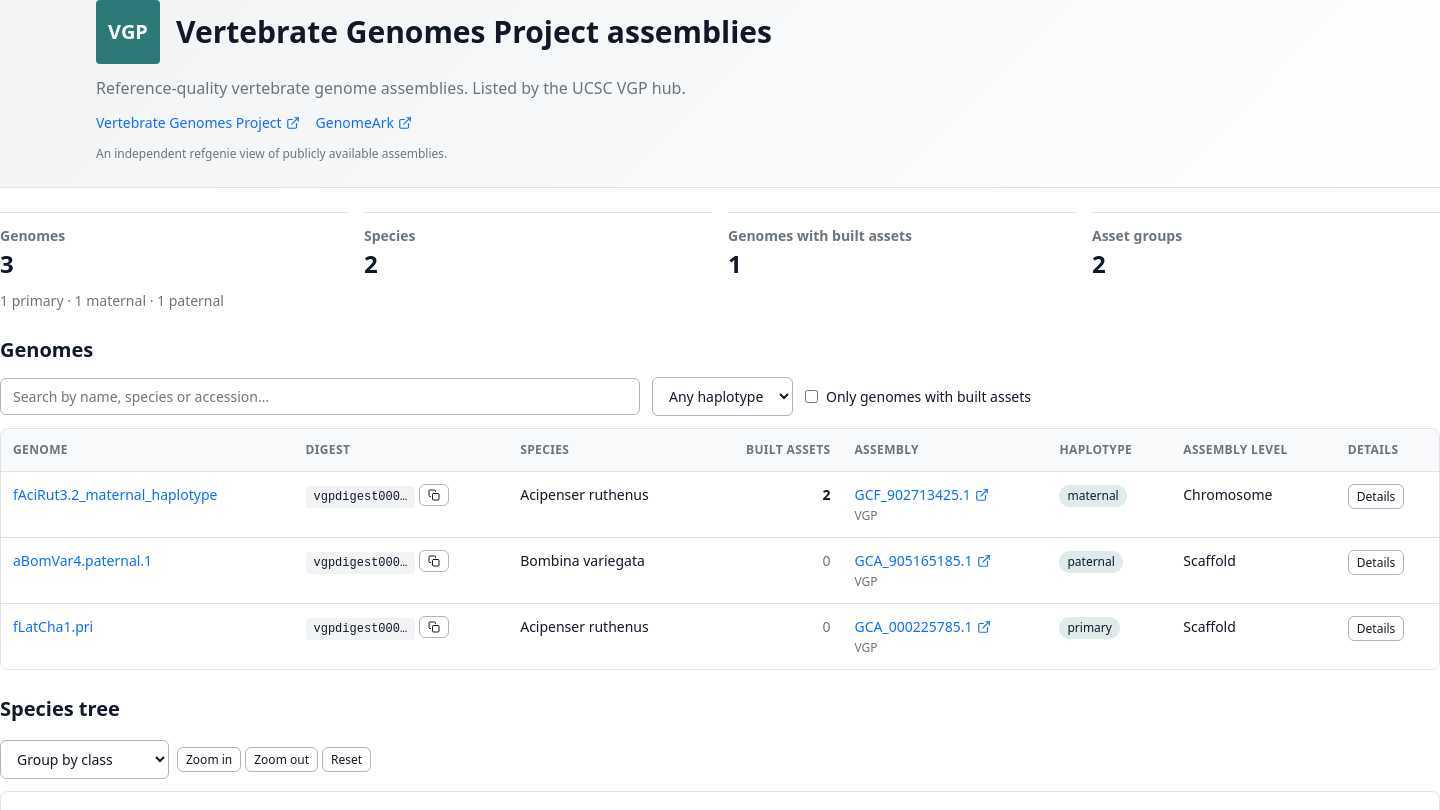
Test case: CollectionPage › opens a detail panel that says when no quality metrics exist
The image size is (1440, 810).
Expected: the link "fLatCha1.pri" is shown, [13,617,93,636]
Step 1. Click the button with aria-label "Details for fAciRut3.2_maternal_haplotype" → (1376, 496), box [1348,484,1404,509]
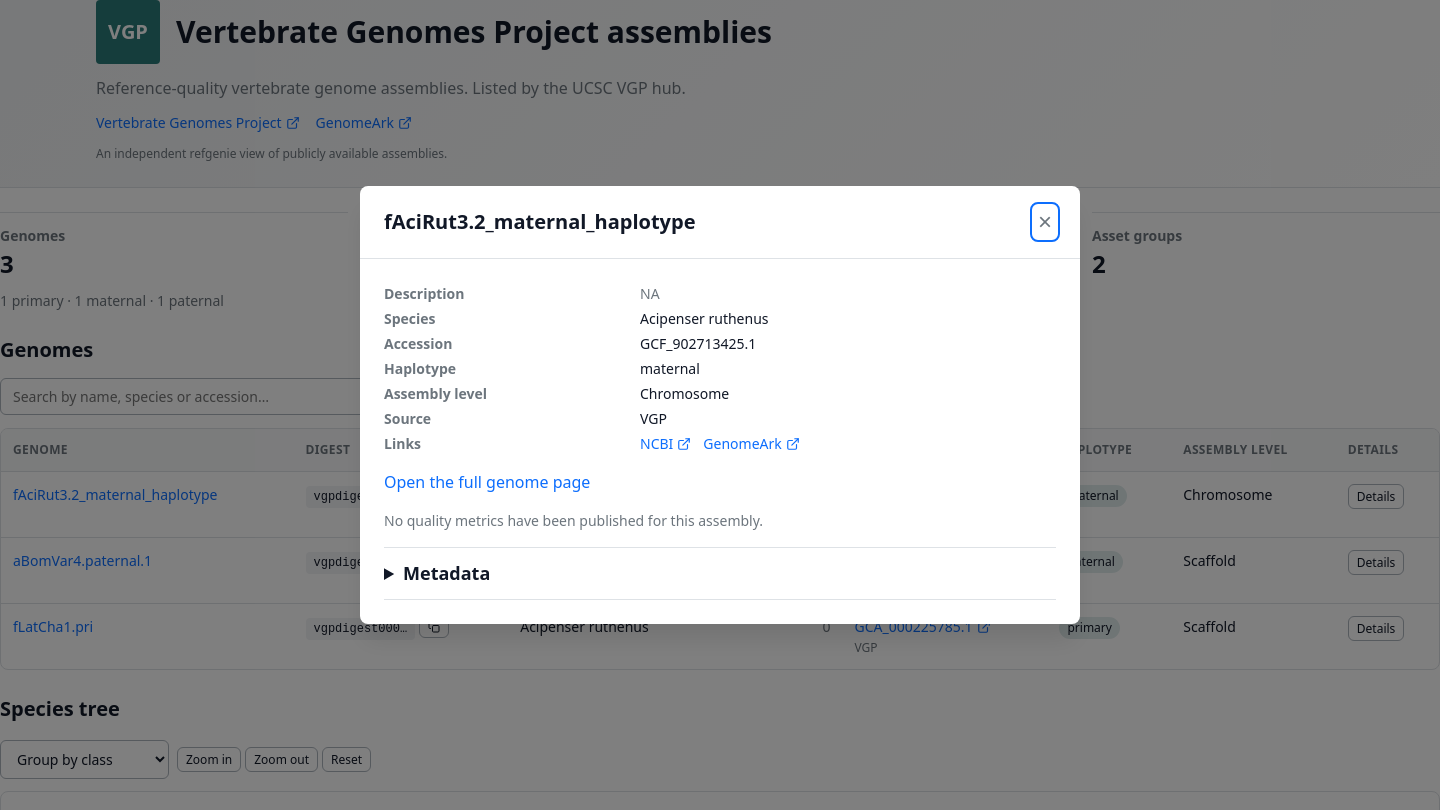
Expected: the heading "fAciRut3.2_maternal_haplotype" is shown, [384,207,696,237]
Expected: the text "No quality metrics have been published for this assembly." is shown, [384,511,763,530]
Step 2. Click the button named "Close" → (1045, 222), box [1034,206,1056,238]
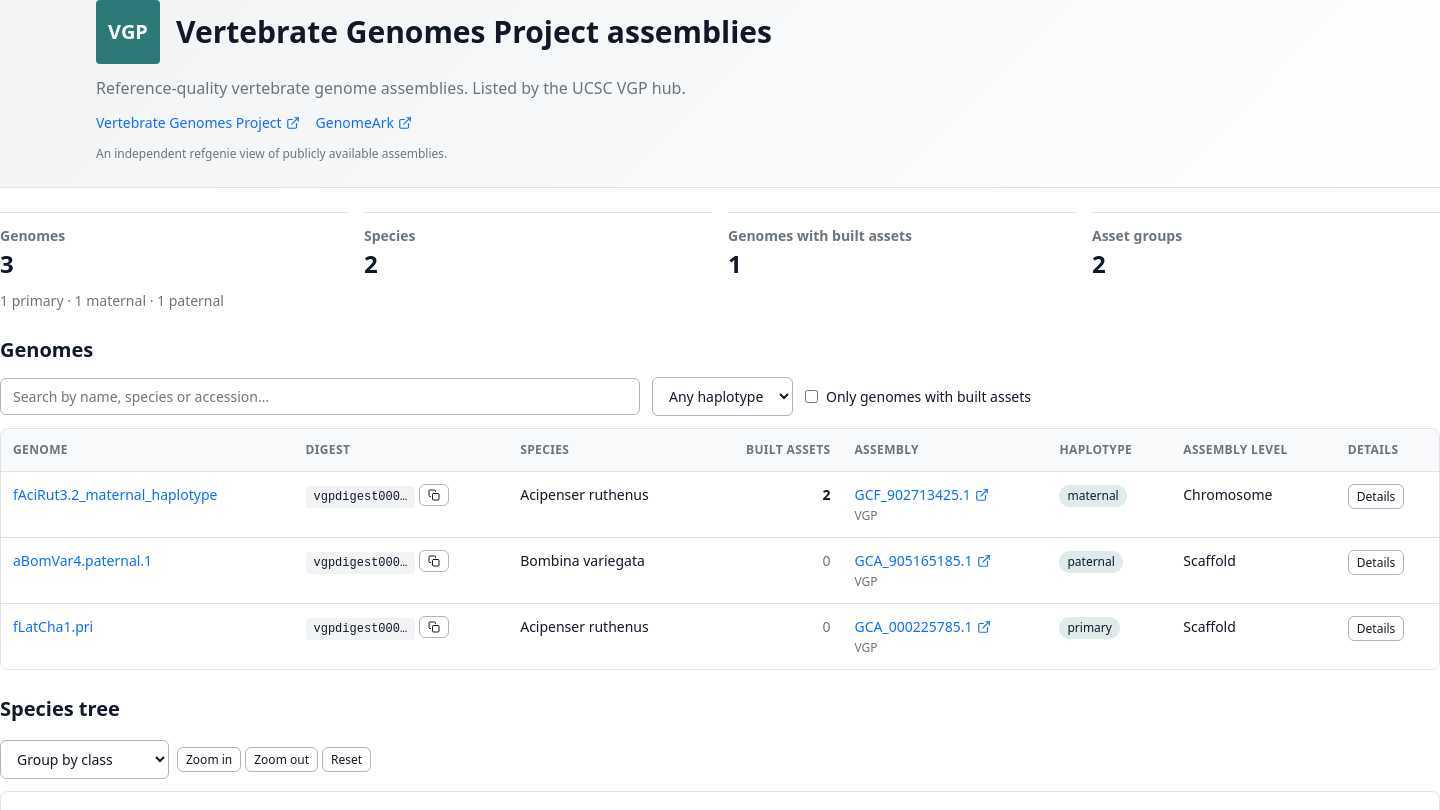
Expected: the text "No quality metrics have been published for this assembly." is gone
